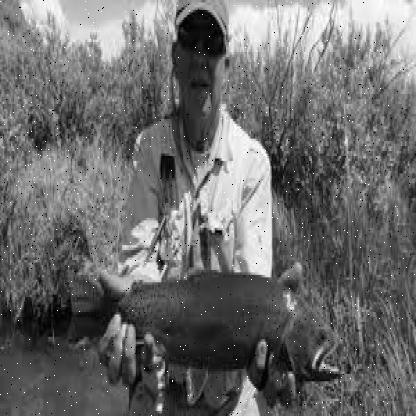fish: (62, 257, 340, 398)
